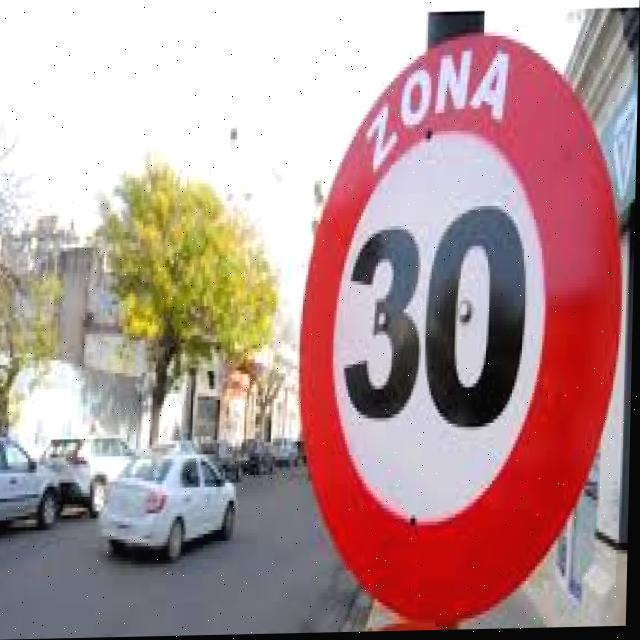Speed limit 30: (293, 26, 629, 628)
